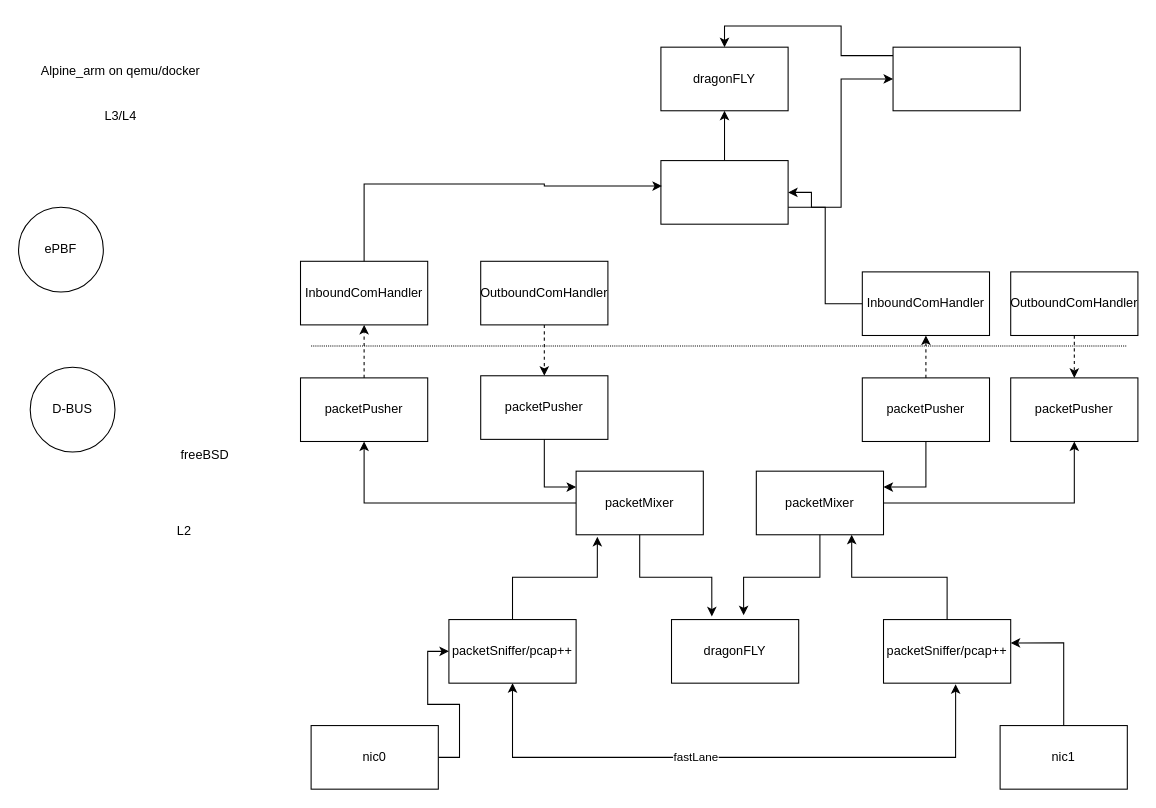
This 1156x808 diagram has some shape labels left out. The centre of each missing label's shape, as x and y in pixels:
"fastP acketInspector" belongs at point 724,192.
"slowP acketInspector" belongs at point 956,78.
